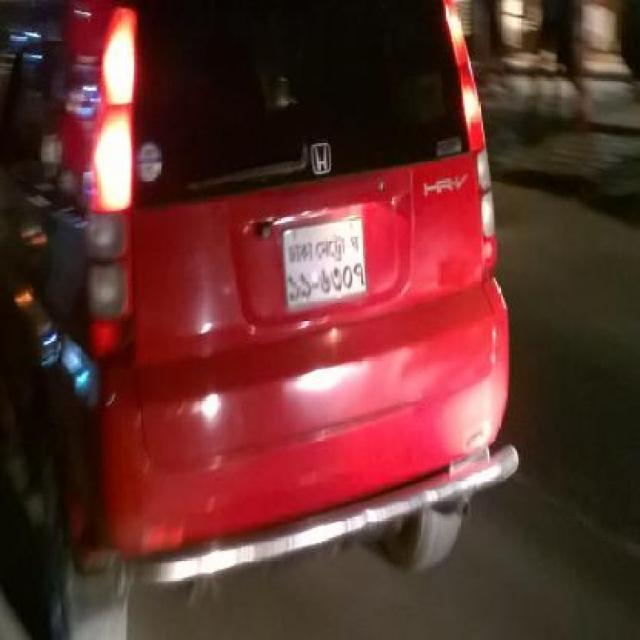numberplate: (280, 214, 369, 309)
